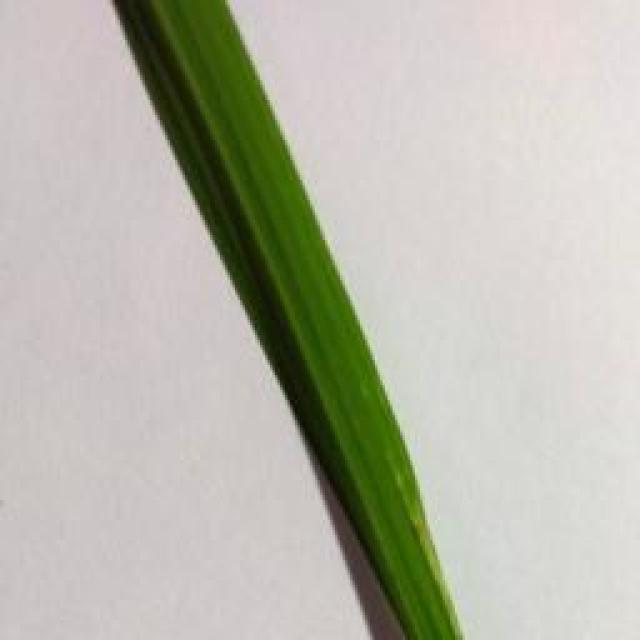Healthy-Plant: (115, 0, 363, 390)
